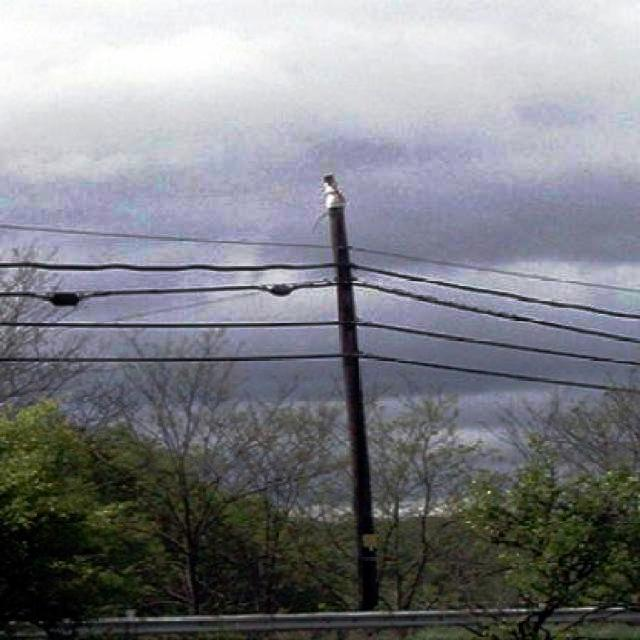poles: (324, 175, 378, 610)
wires: (3, 213, 343, 380), (364, 242, 632, 401)
